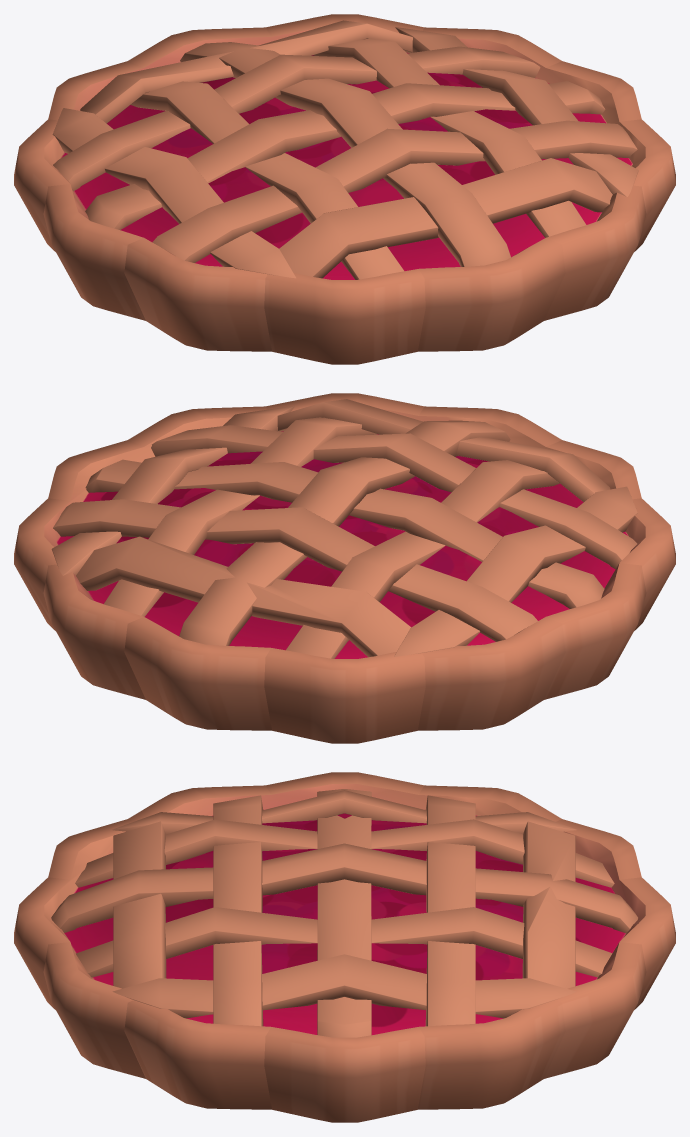
Rendered from m_pieV1.fbx.
3 renders of one model, top to bottom at view 1: azimuth 30°, elevation 25°; view 2: azimuth 150°, elevation 25°; view 3: azimuth 270°, elevation 25°, orthographic.
Visible parts, largest first — view 1: pieV1; view 2: pieV1; view 3: pieV1.
Part boxes in pixels (left/top/right/bottom): pieV1: left=14, top=14, right=675, bottom=364; pieV1: left=14, top=393, right=675, bottom=743; pieV1: left=14, top=772, right=675, bottom=1122.
Bounding box in the file's own units: 33.02 × 8.08 × 33.02.
